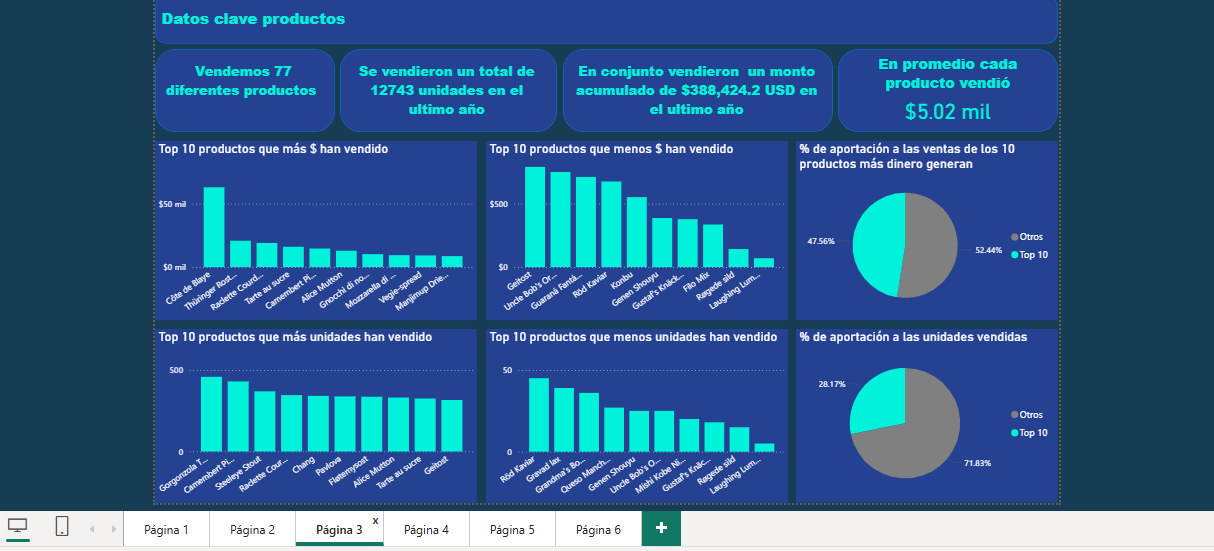

This screenshot's page, from the dashboard's own definition file:
{"tool":"powerbi","page":{"name":"Página 3","canvas":[1280,720],"ordinal":2},"visuals":[{"type":"group","id":"g1","title":"Grupo 1","box":[0,0,1279.8,69.4],"z":0},{"type":"shape","box":[0,0,1279.8,69.4],"z":0,"group":"g1"},{"type":"shape","box":[0,76.5,255.1,117.6],"z":0,"group":"g2"},{"type":"shape","box":[261.9,76.5,307.6,117.6],"z":0,"group":"g3"},{"type":"shape","box":[577.8,76.5,382.7,117.6],"z":0,"group":"g4"},{"type":"shape","box":[968,76.5,311.8,117.6],"z":0,"group":"g5"},{"type":"textbox","box":[4.3,12.8,1269.9,45.4],"z":1000,"group":"g1"},{"type":"group","id":"g2","title":"Grupo 2","box":[0,76.5,255.1,117.6],"z":1000},{"type":"card","title":"En promedio cada producto vendió","fields":{"Values":["Avg(Productos_ventas.Monto)"]},"box":[979.6,82.2,288.5,106.3],"z":1000,"group":"g5"},{"type":"textbox","box":[6.2,89.5,239.3,92],"z":1000,"group":"g2"},{"type":"textbox","box":[269.4,89.5,288.4,92],"z":1000,"group":"g3"},{"type":"textbox","box":[587.1,89.5,358.9,92],"z":1000,"group":"g4"},{"type":"group","id":"g3","title":"Grupo 2","box":[261.9,76.5,307.6,117.6],"z":2000},{"type":"group","id":"g4","title":"Grupo 2","box":[577.8,76.5,382.7,117.6],"z":3000},{"type":"group","id":"g5","title":"Grupo 2","box":[968,76.5,311.8,117.6],"z":4000},{"type":"clusteredColumnChart","title":"Top 10 productos que más $ han vendido","fields":{"Category":["Productos_ventas.Producto"],"Y":["Sum(Productos_ventas.Monto)"]},"box":[0,206.9,456.4,253.7],"z":5000},{"type":"clusteredColumnChart","title":"Top 10 productos que menos $ han vendido","fields":{"Category":["Productos_ventas.Producto"],"Y":["Sum(Productos_ventas.Monto)"]},"box":[469.1,206.9,428,253.7],"z":6000},{"type":"clusteredColumnChart","title":"Top 10 productos que más unidades han vendido","fields":{"Category":["Productos_ventas.Producto"],"Y":["Sum(Productos_ventas.UnidadesVendidas)"]},"box":[0,473.4,456.4,246.6],"z":7000},{"type":"clusteredColumnChart","title":"Top 10 productos que menos unidades han vendido","fields":{"Category":["Productos_ventas.Producto"],"Y":["Sum(Productos_ventas.UnidadesVendidas)"]},"box":[468.7,473.7,428.3,246.9],"z":8000},{"type":"pieChart","title":"% de aportación a las ventas de los 10 productos más dinero generan","fields":{"Y":["Leyenda 2.Ventas para Grafico 2"],"Category":["Leyenda 2.Grupo"]},"box":[908.5,206.9,371.3,253.7],"z":9000},{"type":"pieChart","title":"% de aportación a las  unidades vendidas","fields":{"Category":["Leyenda 3.Grupo"],"Y":["Leyenda 3.Unidades para Grafico"]},"box":[909,474,371,246],"z":10000}]}

Visuals, with their boxes on the page's 1280x720 design canvas (x1, y1, x2, y2). These are canvas units, not pixel positions in the 1214x551 screenshot, which may show the page scaled, cropped or inside an application window:
"Grupo 1" group: {"left": 0, "top": 0, "right": 1280, "bottom": 69}
shape: {"left": 0, "top": 0, "right": 1280, "bottom": 69}
shape: {"left": 0, "top": 76, "right": 255, "bottom": 194}
shape: {"left": 262, "top": 76, "right": 570, "bottom": 194}
shape: {"left": 578, "top": 76, "right": 960, "bottom": 194}
shape: {"left": 968, "top": 76, "right": 1280, "bottom": 194}
textbox: {"left": 4, "top": 13, "right": 1274, "bottom": 58}
"Grupo 2" group: {"left": 0, "top": 76, "right": 255, "bottom": 194}
"En promedio cada producto vendió" card: {"left": 980, "top": 82, "right": 1268, "bottom": 188}
textbox: {"left": 6, "top": 90, "right": 246, "bottom": 182}
textbox: {"left": 269, "top": 90, "right": 558, "bottom": 182}
textbox: {"left": 587, "top": 90, "right": 946, "bottom": 182}
"Grupo 2" group: {"left": 262, "top": 76, "right": 570, "bottom": 194}
"Grupo 2" group: {"left": 578, "top": 76, "right": 960, "bottom": 194}
"Grupo 2" group: {"left": 968, "top": 76, "right": 1280, "bottom": 194}
"Top 10 productos que más $ han vendido" clusteredColumnChart: {"left": 0, "top": 207, "right": 456, "bottom": 461}
"Top 10 productos que menos $ han vendido" clusteredColumnChart: {"left": 469, "top": 207, "right": 897, "bottom": 461}
"Top 10 productos que más unidades han vendido" clusteredColumnChart: {"left": 0, "top": 473, "right": 456, "bottom": 720}
"Top 10 productos que menos unidades han vendido" clusteredColumnChart: {"left": 469, "top": 474, "right": 897, "bottom": 721}
"% de aportación a las ventas de los 10 productos más dinero generan" pieChart: {"left": 908, "top": 207, "right": 1280, "bottom": 461}
"% de aportación a las  unidades vendidas" pieChart: {"left": 909, "top": 474, "right": 1280, "bottom": 720}
